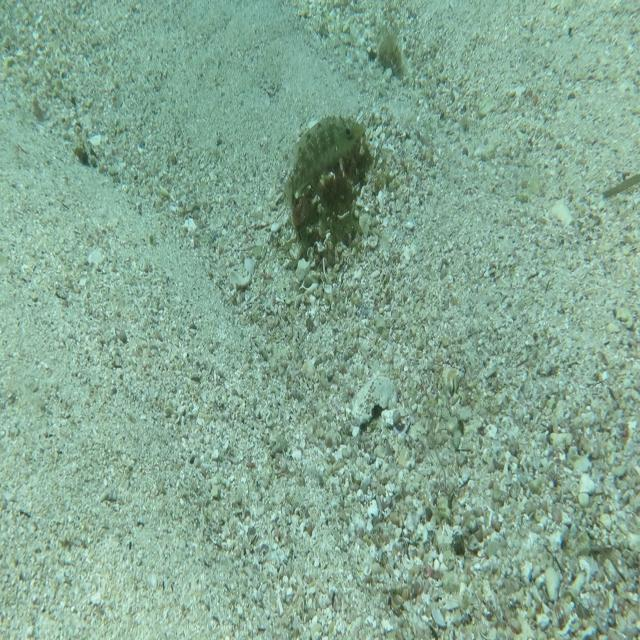MAN: (281, 111, 366, 211)
nest: (284, 114, 379, 268)
vegetation: (378, 27, 406, 83), (601, 169, 640, 200)
